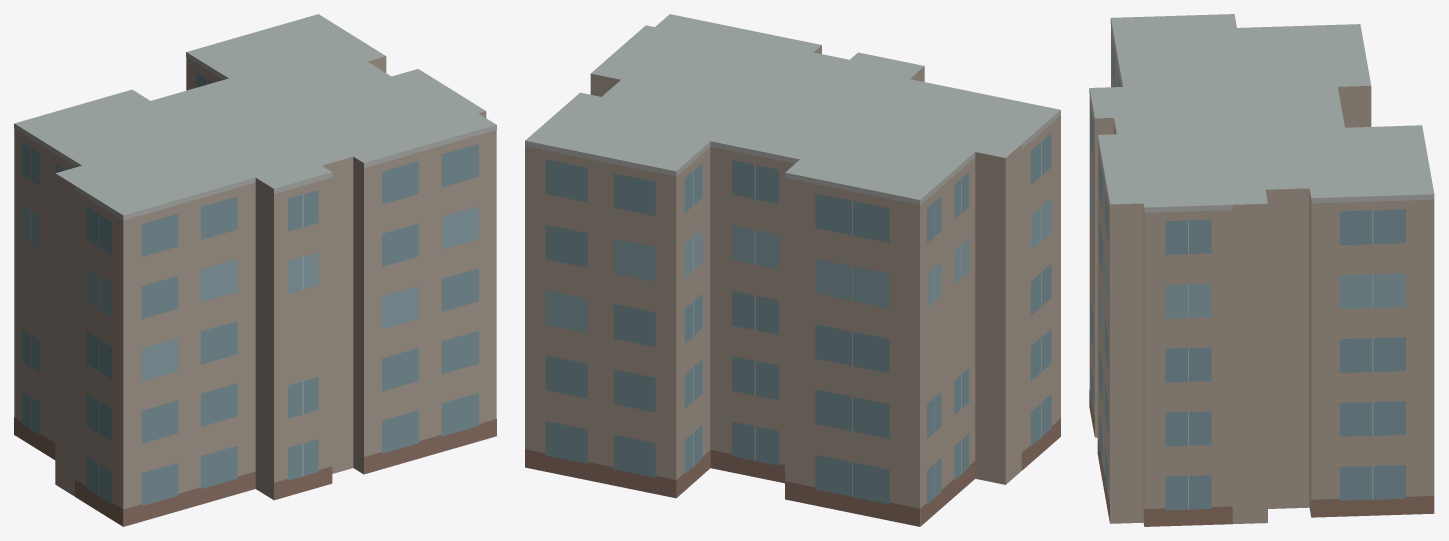
File: survey-upis-32612959.glb
3 views of the same model, side by side, from view 1: azimuth 30°, elevation 25°; view 2: azimuth 150°, elevation 25°; view 3: azimuth 270°, elevation 25° (orthographic). The views are drawn at different scales.
Parts seen in each view (by area): view 1: survey-upis-32612959.tmp; view 2: survey-upis-32612959.tmp; view 3: survey-upis-32612959.tmp.
Part boxes in pixels (<box>): survey-upis-32612959.tmp: <box>14,14,496,526</box>; survey-upis-32612959.tmp: <box>525,14,1060,526</box>; survey-upis-32612959.tmp: <box>1089,14,1434,526</box>.
Bounding box in the file's own units: 19.38 × 14.9 × 14.59.
